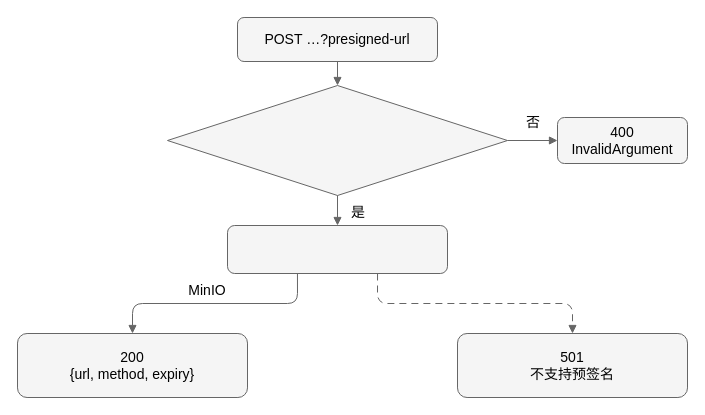
This 705x415 diagram has some shape labels left out. The shapes that lost their labels are listed below. From the top down, each one's centre as x and y in pixels, then its label:
At point 337,140: "method = GET/PUT expiry 1–604800？".
At point 337,249: "backend.presign*".
At point 514,290: "本地 · OSS".
